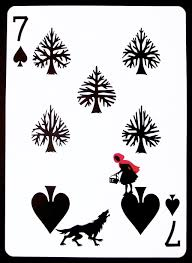seven of spades: (5, 3, 186, 257)
